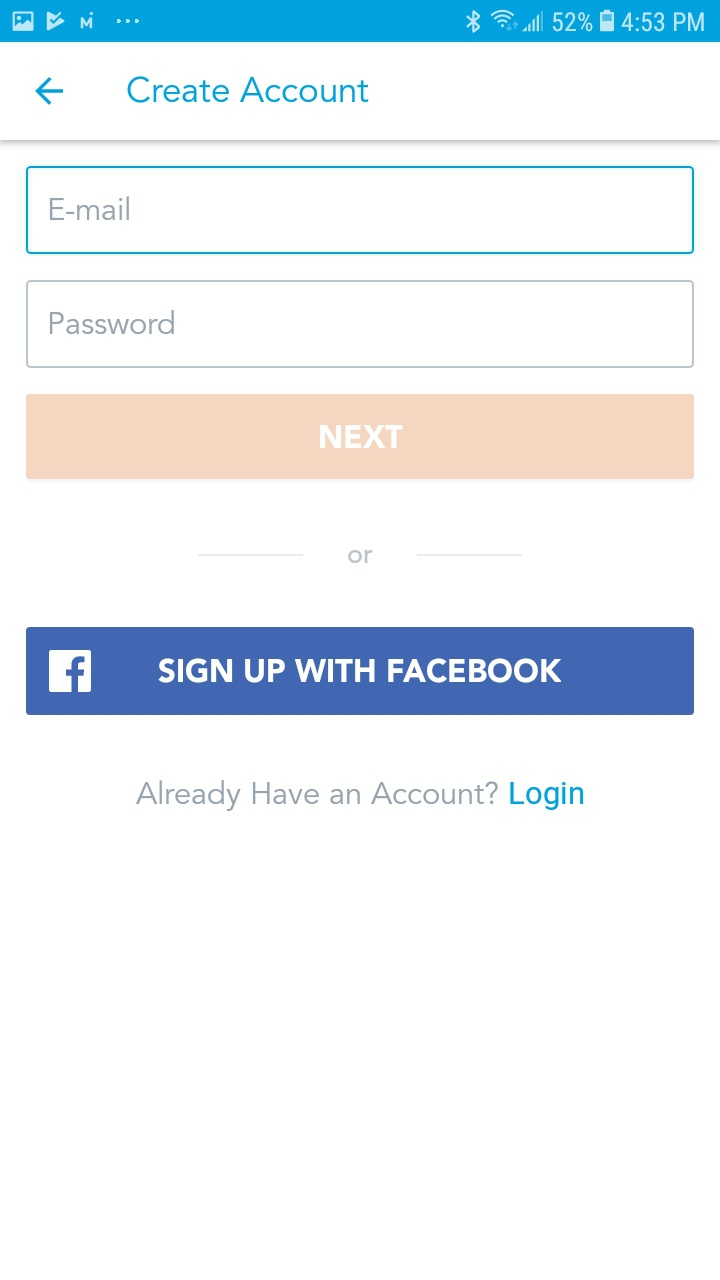EditText: (26, 166, 694, 255), (26, 280, 694, 369)
Icon: (36, 77, 65, 106)
Text: (136, 780, 584, 812), (128, 76, 369, 105), (50, 310, 175, 335), (50, 196, 130, 221), (348, 550, 374, 564)
TextButton: (26, 627, 694, 716), (26, 394, 694, 480)
UpperTaskBar: (1, 1, 720, 43)
